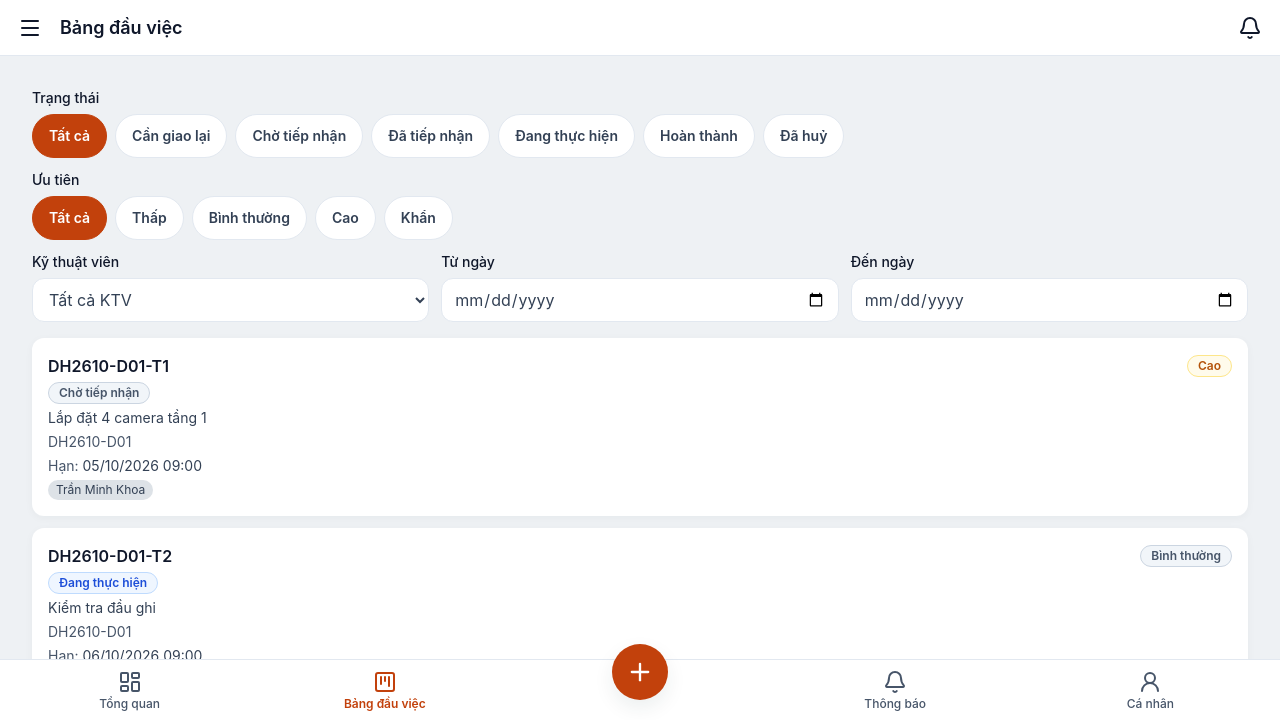
Bảng đầu việc › AC-DSP-087 mobile 390px: danh sách thẻ + lọc trạng thái, chọn Cần giao lại chỉ còn T3
Click the radio button labelled "Cần giao lại" at [171, 136], box x1=115 y1=114 x2=227 y2=158
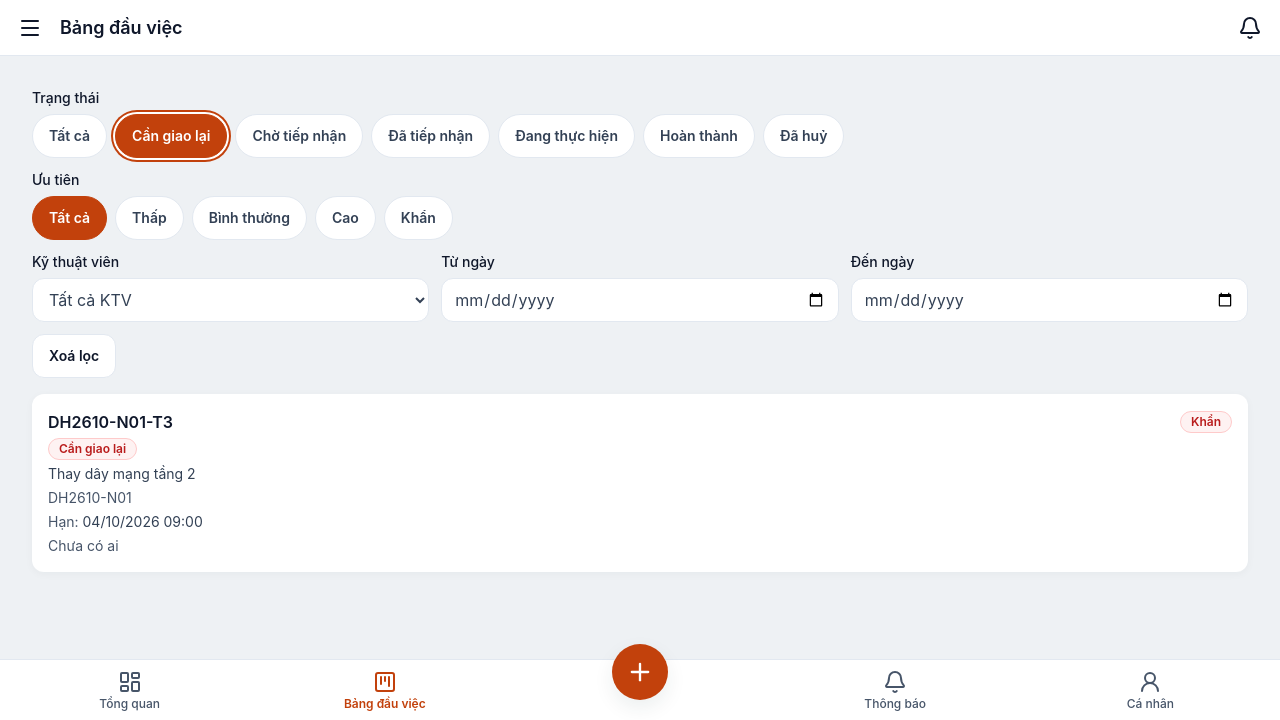
Check: the text "DH2610-N01-T3" is shown, box x1=48 y1=410 x2=173 y2=434
Check: the button "DH2610-D01-T1" is gone
